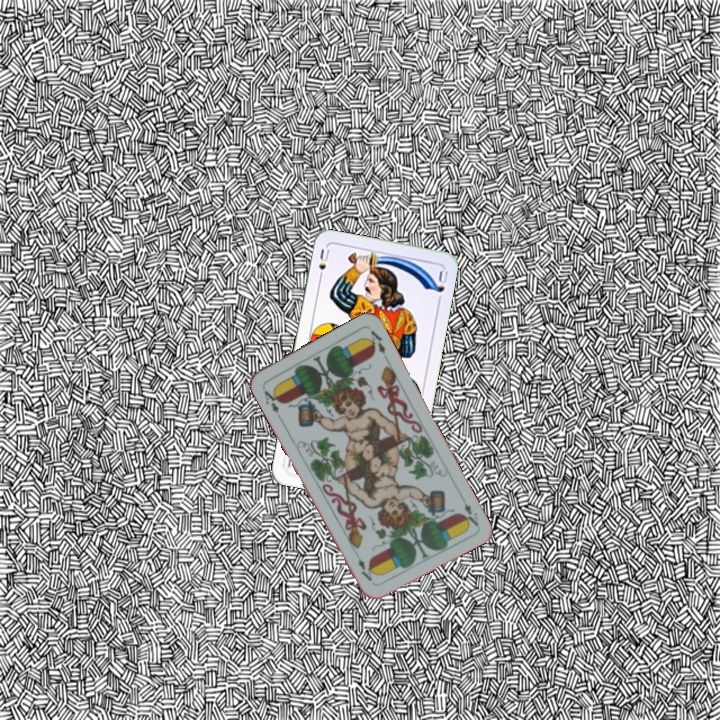EA: (258, 384, 283, 416), (458, 499, 481, 529)
SU: (314, 245, 332, 284)
